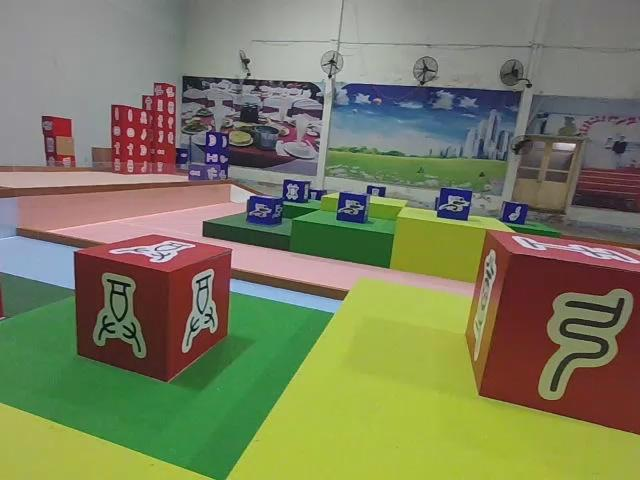R2 Fake: (462, 226, 640, 439)
R2 Real: (72, 231, 234, 383)
